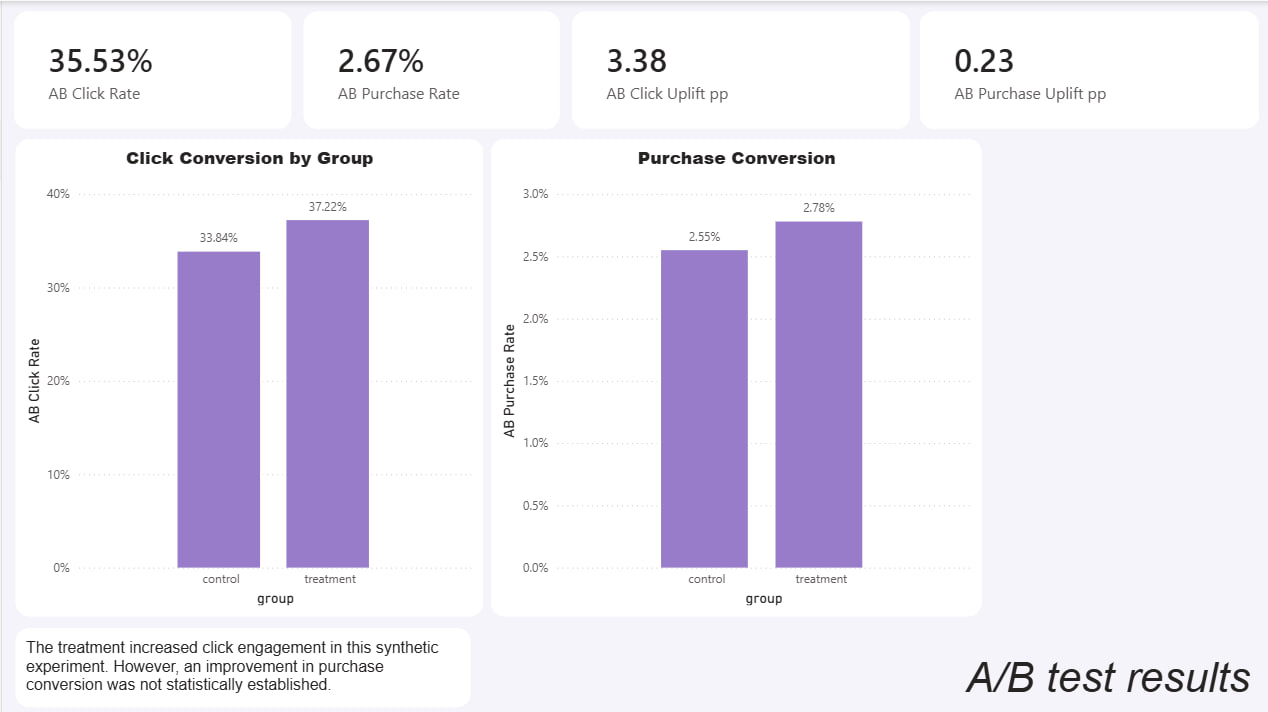

The dashboard page shown, as its layout file describes it:
{"tool":"powerbi","page":{"name":"A/B Test Results","canvas":[1280,720],"ordinal":1},"visuals":[{"type":"cardVisual","fields":{"Data":["AB_results.AB Click Rate"]},"box":[12.9,10,280,118.6],"z":0},{"type":"cardVisual","fields":{"Data":["AB_results.AB Purchase Rate"]},"box":[304.3,10,258.6,118.6],"z":1000},{"type":"clusteredColumnChart","title":"Click Conversion by Group","fields":{"Category":["AB_results.group"],"Y":["AB_results.AB Click Rate"]},"box":[13.3,140,471.7,481.7],"z":2000},{"type":"clusteredColumnChart","title":"Purchase Conversion","fields":{"Category":["AB_results.group"],"Y":["AB_results.AB Purchase Rate"]},"box":[493.3,140,495,481.7],"z":3000},{"type":"cardVisual","fields":{"Data":["AB_results.AB Click Uplift pp"]},"box":[575.7,10,341.4,118.6],"z":4000},{"type":"cardVisual","fields":{"Data":["AB_results.AB Purchase Uplift pp"]},"box":[926.7,10,341.7,118.3],"z":4001},{"type":"textbox","box":[13,633,459,80],"z":4002},{"type":"textbox","box":[746.7,653.3,518.6,67.1],"z":4003}]}

Visuals, with their boxes in screenshot pixels (x1, y1, x2, y2), scaled from the page's 1280x720 canvas onto the 1268x712 screenshot:
cardVisual - AB_results.AB Click Rate: {"left": 13, "top": 10, "right": 290, "bottom": 127}
cardVisual - AB_results.AB Purchase Rate: {"left": 301, "top": 10, "right": 558, "bottom": 127}
"Click Conversion by Group" clusteredColumnChart: {"left": 13, "top": 138, "right": 480, "bottom": 615}
"Purchase Conversion" clusteredColumnChart: {"left": 489, "top": 138, "right": 979, "bottom": 615}
cardVisual - AB_results.AB Click Uplift pp: {"left": 570, "top": 10, "right": 909, "bottom": 127}
cardVisual - AB_results.AB Purchase Uplift pp: {"left": 918, "top": 10, "right": 1257, "bottom": 127}
textbox: {"left": 13, "top": 626, "right": 468, "bottom": 705}
textbox: {"left": 740, "top": 646, "right": 1253, "bottom": 711}
